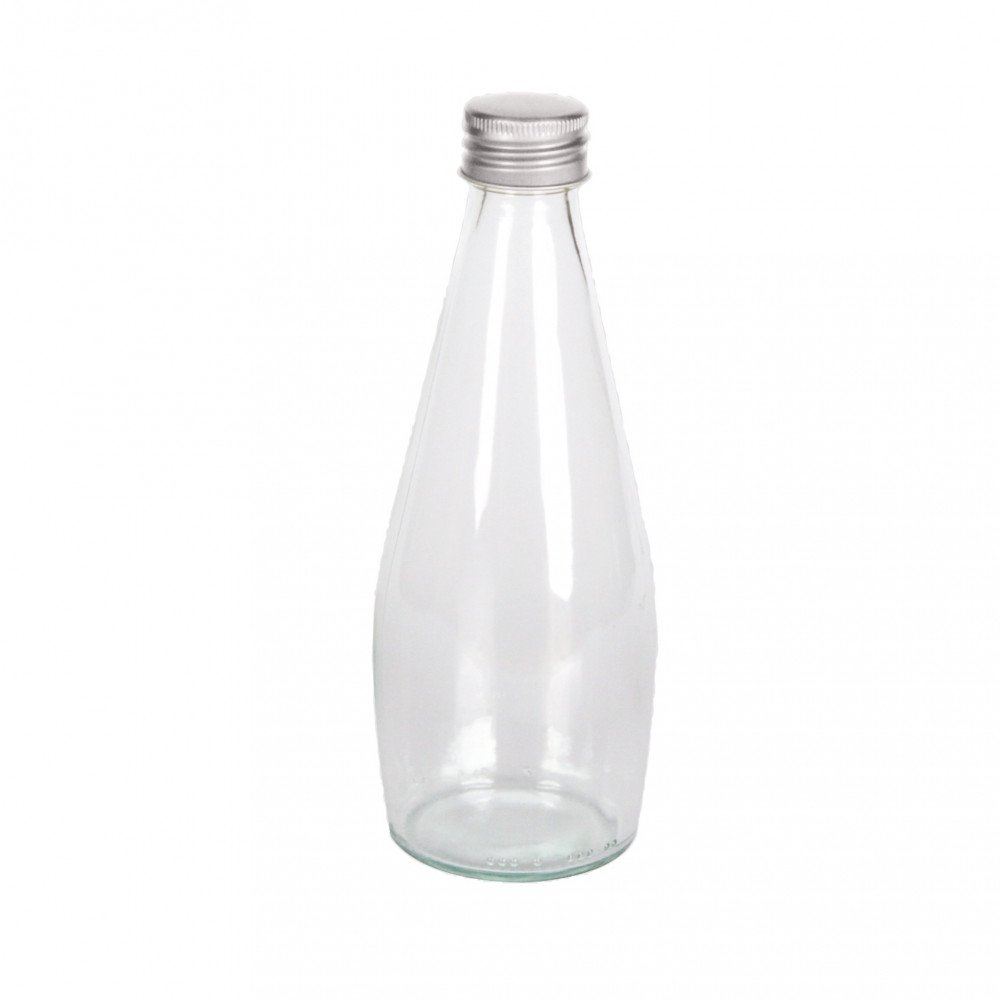glass_bottle: (351, 73, 675, 907)
